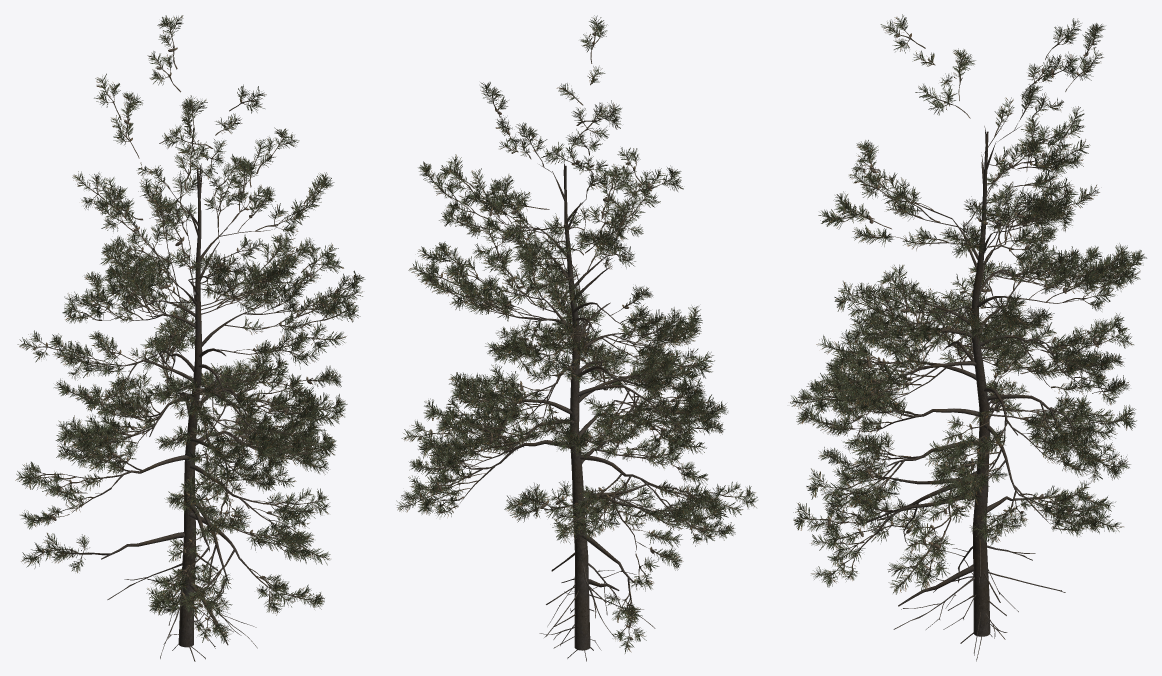
File: pine-medium.glb
3 renders of one model, left to right at view 1: azimuth 30°, elevation 25°; view 2: azimuth 150°, elevation 25°; view 3: azimuth 270°, elevation 25°, orthographic. The views are drawn at different scales.
Parts seen in each view (by area): view 1: pine_sapling_medium_c_LOD0; view 2: pine_sapling_medium_c_LOD0; view 3: pine_sapling_medium_c_LOD0.
Boxes of the visible parts, x1=… form: pine_sapling_medium_c_LOD0: x1=15, y1=15, x2=365, y2=661; pine_sapling_medium_c_LOD0: x1=396, y1=15, x2=757, y2=661; pine_sapling_medium_c_LOD0: x1=790, y1=14, x2=1146, y2=661.
Bounding box in the file's own units: 3.82 × 7.01 × 3.52.
3 materials, 3 textured.
